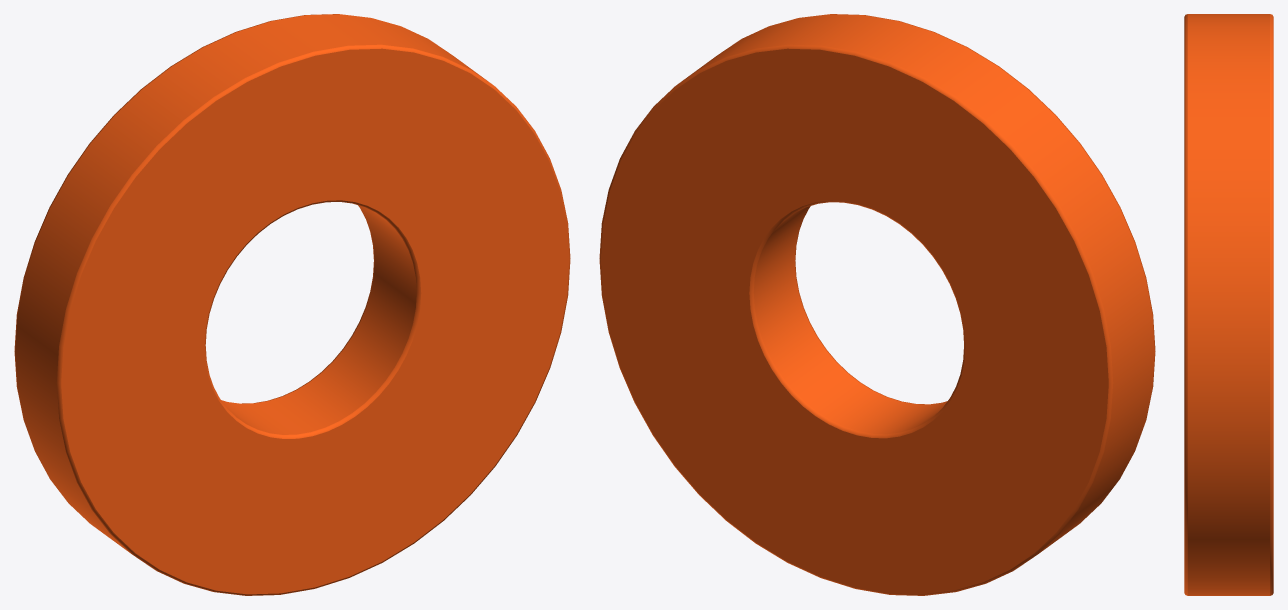
File: O ola .fbx
3 views of the same model, side by side, from view 1: azimuth 30°, elevation 25°; view 2: azimuth 150°, elevation 25°; view 3: azimuth 270°, elevation 25° (orthographic).
Visible parts, largest first — view 1: O; view 2: O; view 3: O.
Part boxes in pixels (x1,y1,x2,y2): O: (14, 14, 570, 595); O: (599, 14, 1155, 595); O: (1184, 14, 1273, 595).
Bounding box in the file's own units: 168 × 168 × 25.74.
